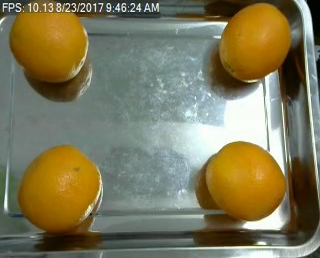Orange: (17, 143, 103, 232), (205, 139, 286, 220), (8, 1, 88, 83), (218, 2, 292, 82)
